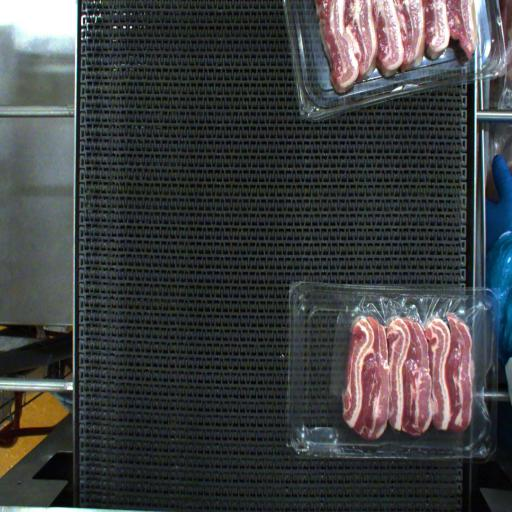unsealed: (306, 275, 490, 449)
